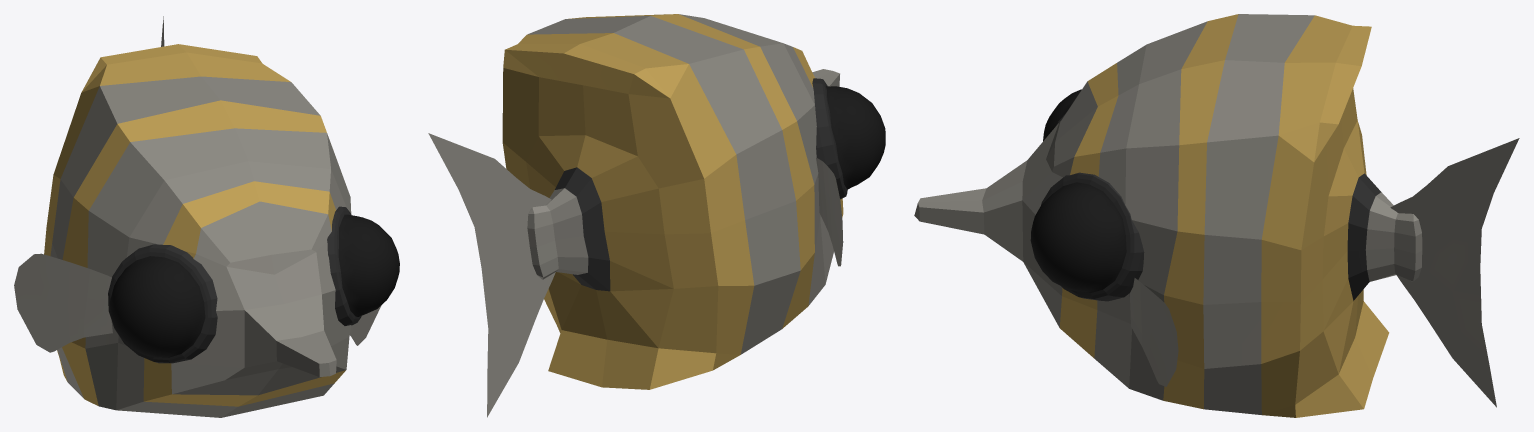
The model's file is butterfly_fish.glb.
The picture shows the model from 3 angles, left to right: view 1: azimuth 30°, elevation 25°; view 2: azimuth 150°, elevation 25°; view 3: azimuth 270°, elevation 25°; orthographic projection. The views are drawn at different scales.
Parts seen in each view (by area): view 1: Butterflyfish_Cube.059; view 2: Butterflyfish_Cube.059; view 3: Butterflyfish_Cube.059.
Part boxes in pixels (bbox=[...]): Butterflyfish_Cube.059: bbox=[14, 16, 399, 417]; Butterflyfish_Cube.059: bbox=[428, 14, 885, 417]; Butterflyfish_Cube.059: bbox=[914, 14, 1519, 417].
Size of the model in its own units: 3.31 by 2.87 by 4.66.
